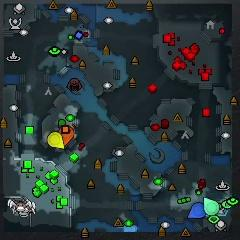p1: (187, 201, 207, 221)
p2: (202, 196, 220, 217)
p4: (47, 131, 65, 152)
p5: (59, 126, 75, 144)
